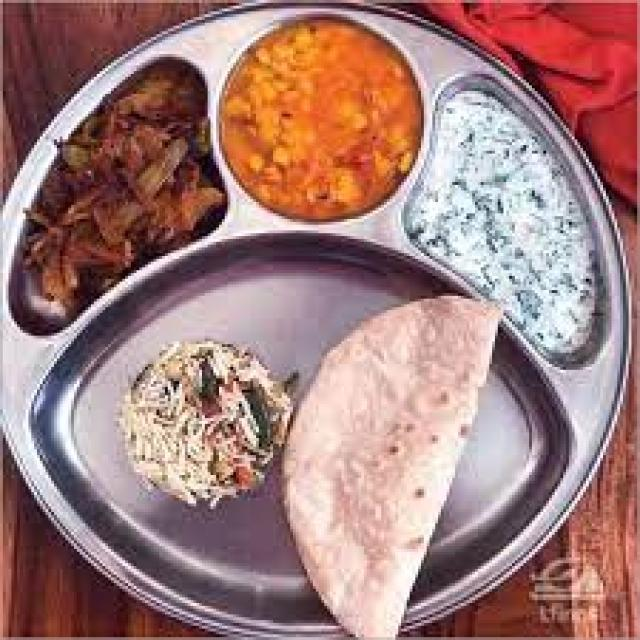dal: (226, 22, 423, 226)
raita: (432, 69, 617, 358)
rice: (115, 340, 275, 514)
roti: (308, 283, 494, 640)
veg-fry: (8, 71, 209, 330)
